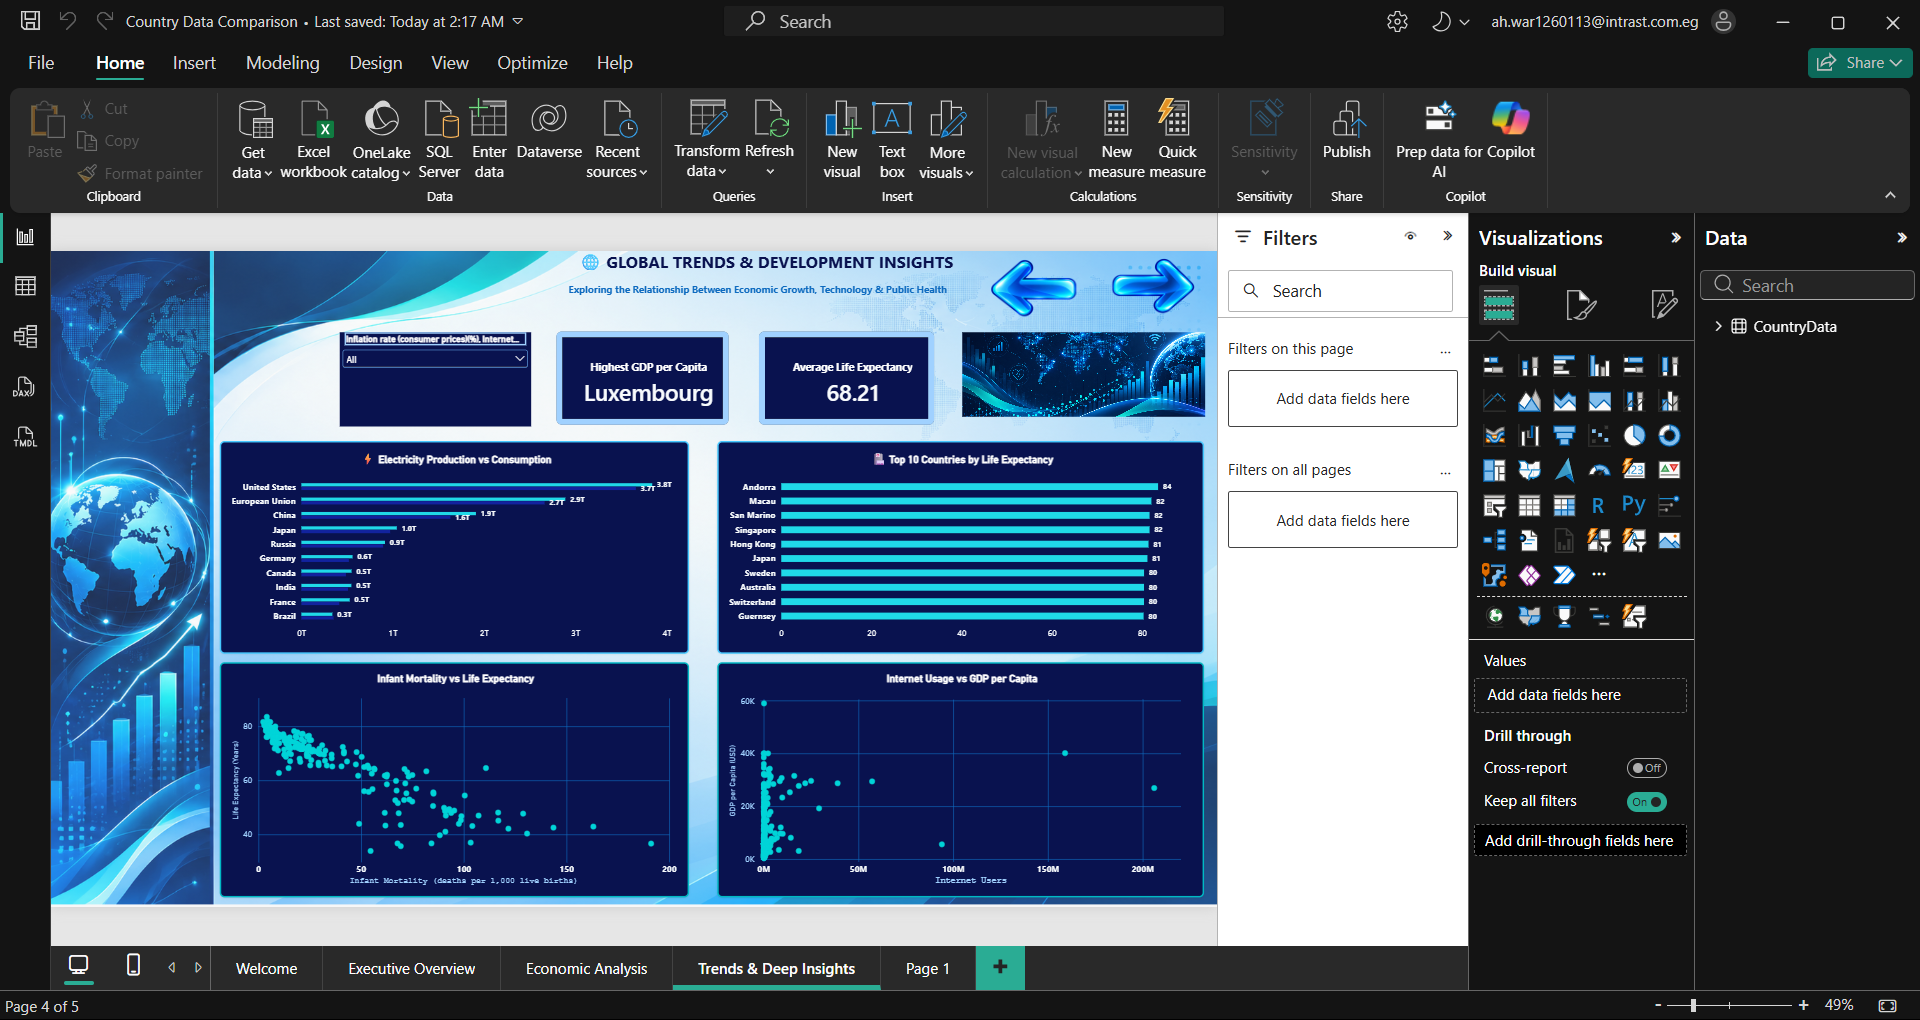

The page's visual inventory and layout, read from the dashboard file:
{"tool":"powerbi","page":{"name":"Trends & Deep Insights","canvas":[1920,1080],"ordinal":3},"visuals":[{"type":"clusteredBarChart","title":"⚡ Electricity Production vs Consumption","fields":{"Category":["CountryData.Country"],"Y":["Sum(CountryData.Electricity - production(kWh))","Sum(CountryData.Electricity - consumption(kWh))"]},"box":[277.6,312.8,772.7,350.1],"z":0},{"type":"clusteredBarChart","title":"🏥 Top 10 Countries by Life Expectancy","fields":{"Category":["CountryData.Country"],"Y":["CountryData.Average Life Expectancy"]},"box":[1098,312.8,801.7,350.1],"z":1000},{"type":"scatterChart","title":"Infant Mortality vs Life Expectancy","fields":{"Category":["CountryData.Country"],"X":["Sum(CountryData.Infant mortality rate(deaths/1000 live births))"],"Y":["Sum(CountryData.Life expectancy at birth(years))"]},"box":[277.6,677.4,772.7,387.4],"z":2000},{"type":"scatterChart","title":"Internet Usage vs GDP per Capita","fields":{"Category":["CountryData.Country"],"X":["Sum(CountryData.Internet users)"],"Y":["Sum(CountryData.GDP - per capita)"]},"box":[1098,677.4,801.7,387.4],"z":3000},{"type":"cardVisual","fields":{"Data":["CountryData.Top GDP Country"]},"box":[830.7,132.6,285.9,155.4],"z":4000},{"type":"cardVisual","fields":{"Data":["CountryData.Average Life Expectancy"]},"box":[1164.3,132.6,290,155.4],"z":5000},{"type":"slicer","fields":{"Values":["CountryData.Inflation rate (consumer prices)(%)","CountryData.Internet users"]},"box":[476.5,134.7,314.9,155.4],"z":6000},{"type":"image","box":[1499.9,134.7,399.8,138.8],"z":7000},{"type":"textbox","box":[870.1,0,1029.6,51.8],"z":8000},{"type":"textbox","box":[851.4,51.8,648.4,58],"z":9000},{"type":"image","box":[1535.1,10.4,165.7,99.4],"z":10000},{"type":"image","box":[1731.9,10.4,167.8,95.3],"z":11000}]}

Visuals, with their boxes on the page's 1920x1080 design canvas (x1, y1, x2, y2). These are canvas units, not pixel positions in the 1920x1020 screenshot, which may show the page scaled, cropped or inside an application window:
"⚡ Electricity Production vs Consumption" clusteredBarChart: locate(278, 313, 1050, 663)
"🏥 Top 10 Countries by Life Expectancy" clusteredBarChart: locate(1098, 313, 1900, 663)
"Infant Mortality vs Life Expectancy" scatterChart: locate(278, 677, 1050, 1065)
"Internet Usage vs GDP per Capita" scatterChart: locate(1098, 677, 1900, 1065)
cardVisual - CountryData.Top GDP Country: locate(831, 133, 1117, 288)
cardVisual - CountryData.Average Life Expectancy: locate(1164, 133, 1454, 288)
slicer - CountryData.Inflation rate (consumer prices)(%) x CountryData.Internet users: locate(476, 135, 791, 290)
image: locate(1500, 135, 1900, 274)
textbox: locate(870, 0, 1900, 52)
textbox: locate(851, 52, 1500, 110)
image: locate(1535, 10, 1701, 110)
image: locate(1732, 10, 1900, 106)
